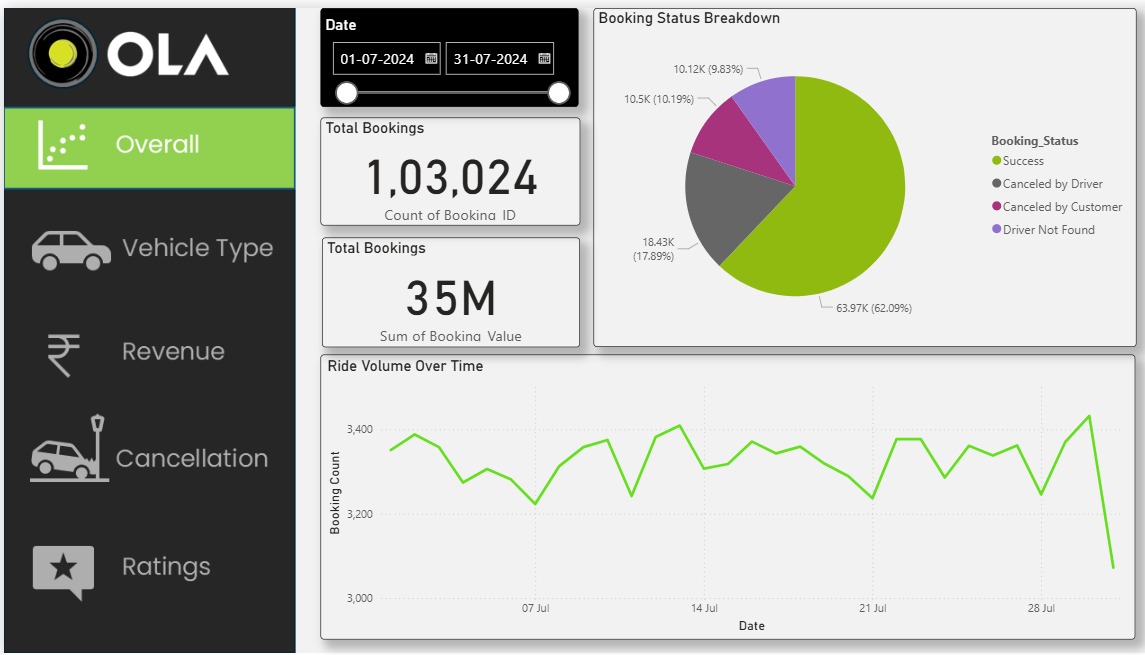

The page's visual inventory and layout, read from the dashboard file:
{"tool":"powerbi","page":{"name":"Overall","canvas":[1280,720],"ordinal":0},"visuals":[{"type":"actionButton","box":[0,221.5,325,90.6],"z":0},{"type":"actionButton","box":[0,339.4,325,90.6],"z":1000},{"type":"actionButton","box":[0,448.7,325,90.6],"z":2000},{"type":"actionButton","box":[0,583.9,325,90.6],"z":3000},{"type":"lineChart","title":"Ride Volume Over Time","fields":{"Y":["CountNonNull(Bookings.Booking_ID)"],"Category":["Bookings.Date"]},"box":[351.7,385,905,316.7],"z":4000},{"type":"pieChart","title":"Booking Status Breakdown","fields":{"Category":["Bookings.Booking_Status"],"Y":["CountNonNull(Bookings.Booking_Status)"]},"box":[655,0,603.3,376.7],"z":5000},{"type":"slicer","title":"Date","fields":{"Values":["Bookings.Date"]},"box":[351.7,0,286.7,110],"z":6000},{"type":"card","title":"Total Bookings","fields":{"Values":["CountNonNull(Bookings.Booking_ID)"]},"box":[351.7,121.7,288.3,120],"z":7000},{"type":"card","title":"Total Bookings","fields":{"Values":["Sum(Bookings.Booking_Value)"]},"box":[353.3,255,286.7,121.7],"z":8000}]}

Visuals, with their boxes in screenshot pixels (x1, y1, x2, y2), scaled from the page's 1280x720 canvas onto the 1145x655 screenshot:
actionButton: [x1=0, y1=202, x2=291, y2=284]
actionButton: [x1=0, y1=309, x2=291, y2=391]
actionButton: [x1=0, y1=408, x2=291, y2=491]
actionButton: [x1=0, y1=531, x2=291, y2=614]
"Ride Volume Over Time" lineChart: [x1=315, y1=350, x2=1124, y2=638]
"Booking Status Breakdown" pieChart: [x1=586, y1=0, x2=1126, y2=343]
"Date" slicer: [x1=315, y1=0, x2=571, y2=100]
"Total Bookings" card: [x1=315, y1=111, x2=572, y2=220]
"Total Bookings" card: [x1=316, y1=232, x2=572, y2=343]
